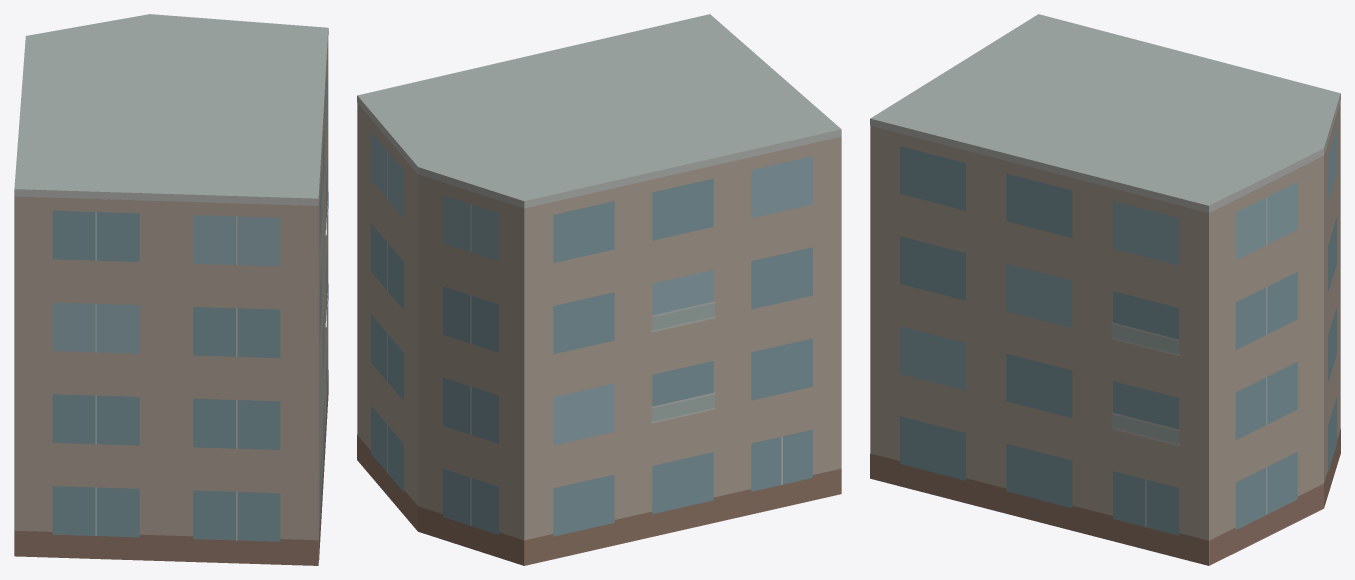
Rendered from survey-upis-32659673.glb.
3 views of the same model, side by side, from view 1: azimuth 30°, elevation 25°; view 2: azimuth 150°, elevation 25°; view 3: azimuth 270°, elevation 25° (orthographic).
Parts seen in each view (by area): view 1: survey-upis-32659673.tmp; view 2: survey-upis-32659673.tmp; view 3: survey-upis-32659673.tmp.
Boxes of the visible parts, x1,y1,x2,y2 form: survey-upis-32659673.tmp: [14, 14, 328, 565]; survey-upis-32659673.tmp: [357, 14, 841, 565]; survey-upis-32659673.tmp: [870, 14, 1340, 565].
Size of the model in its own units: 13.95 by 12.2 by 14.46.
